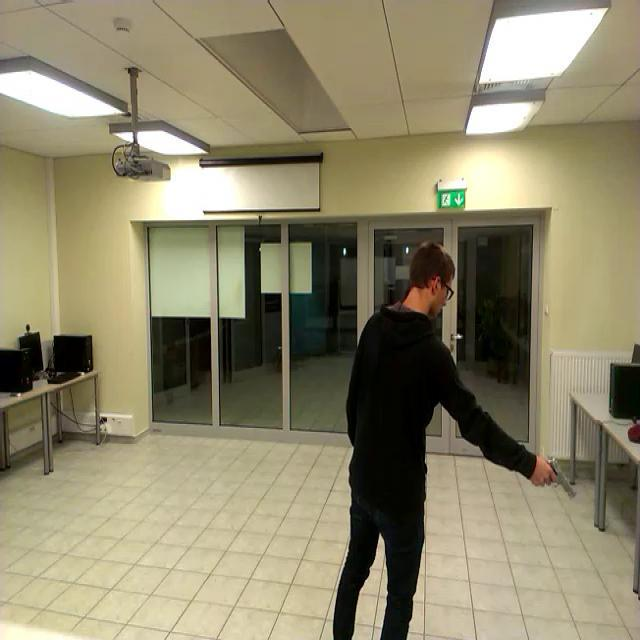Gun: (540, 457, 576, 497)
